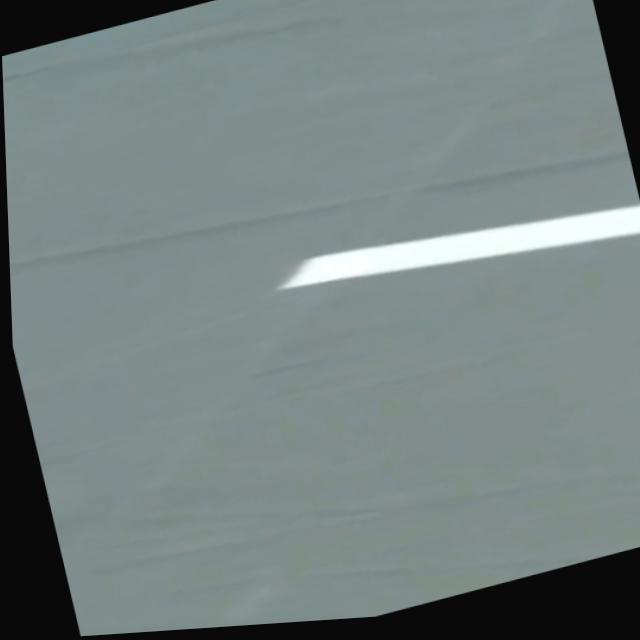center: (280, 206, 640, 289)
